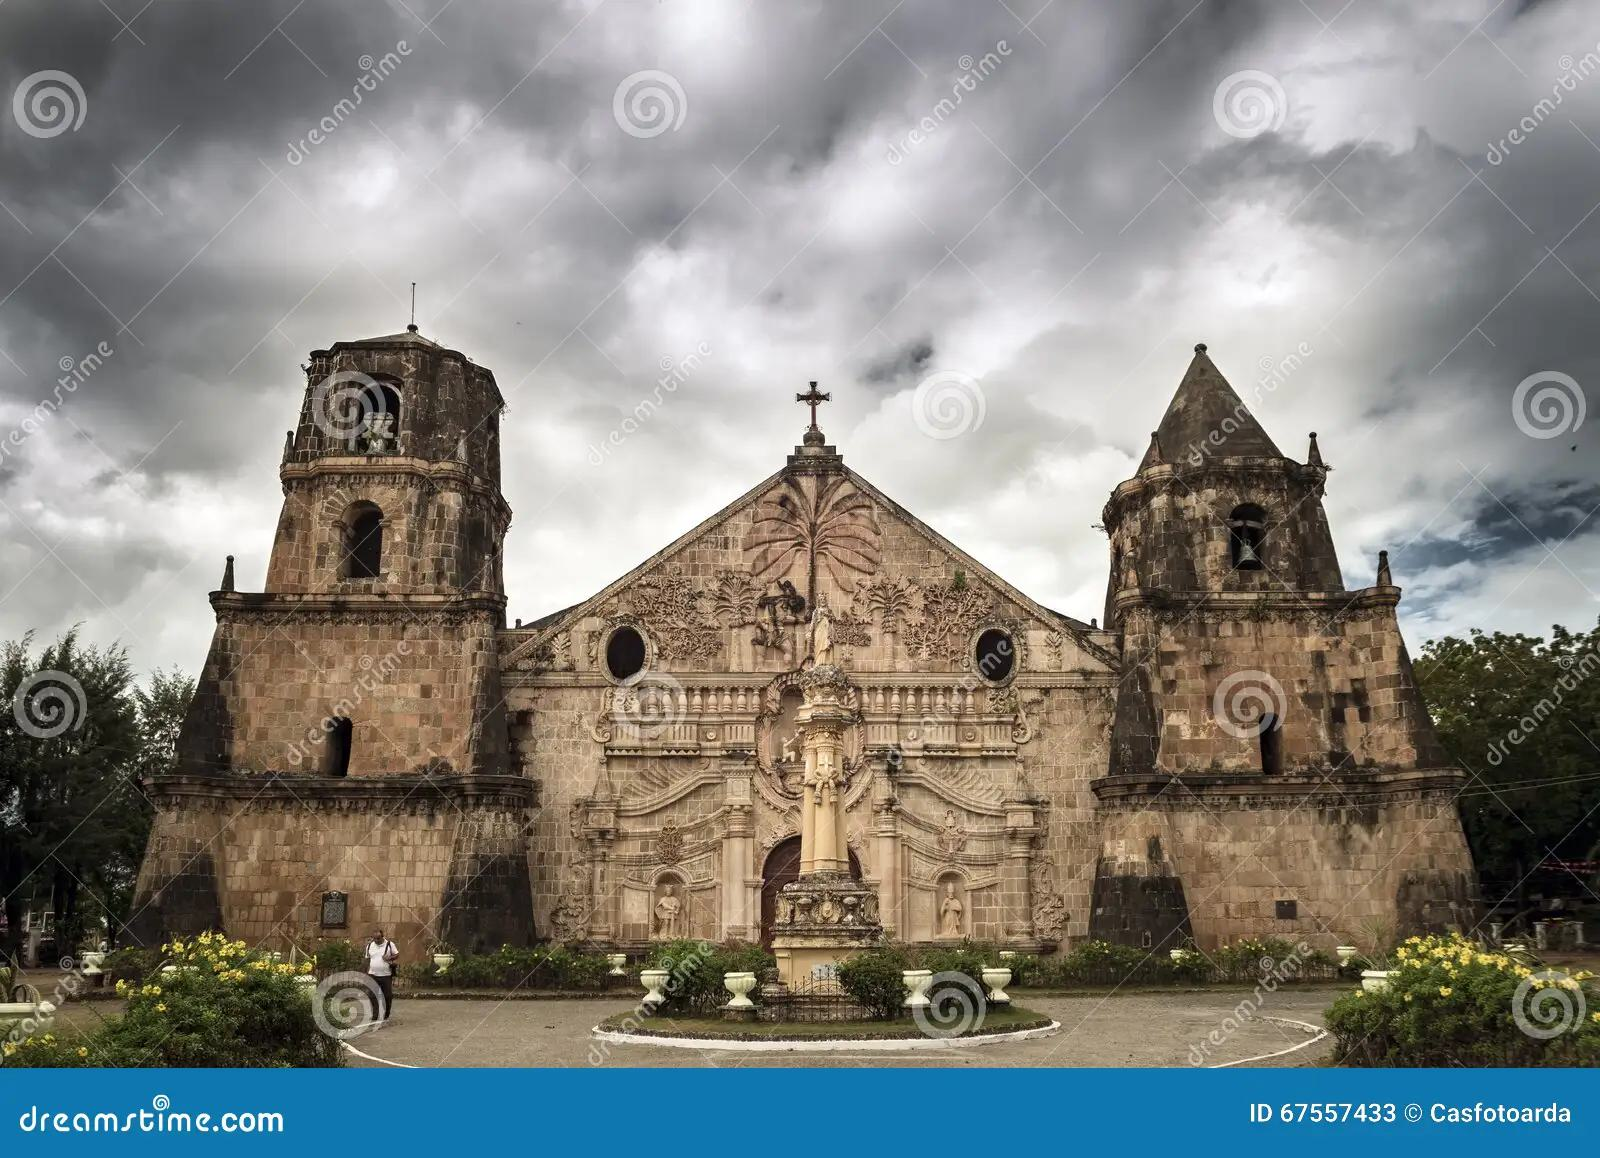Miagao Church: (117, 288, 1486, 972)
